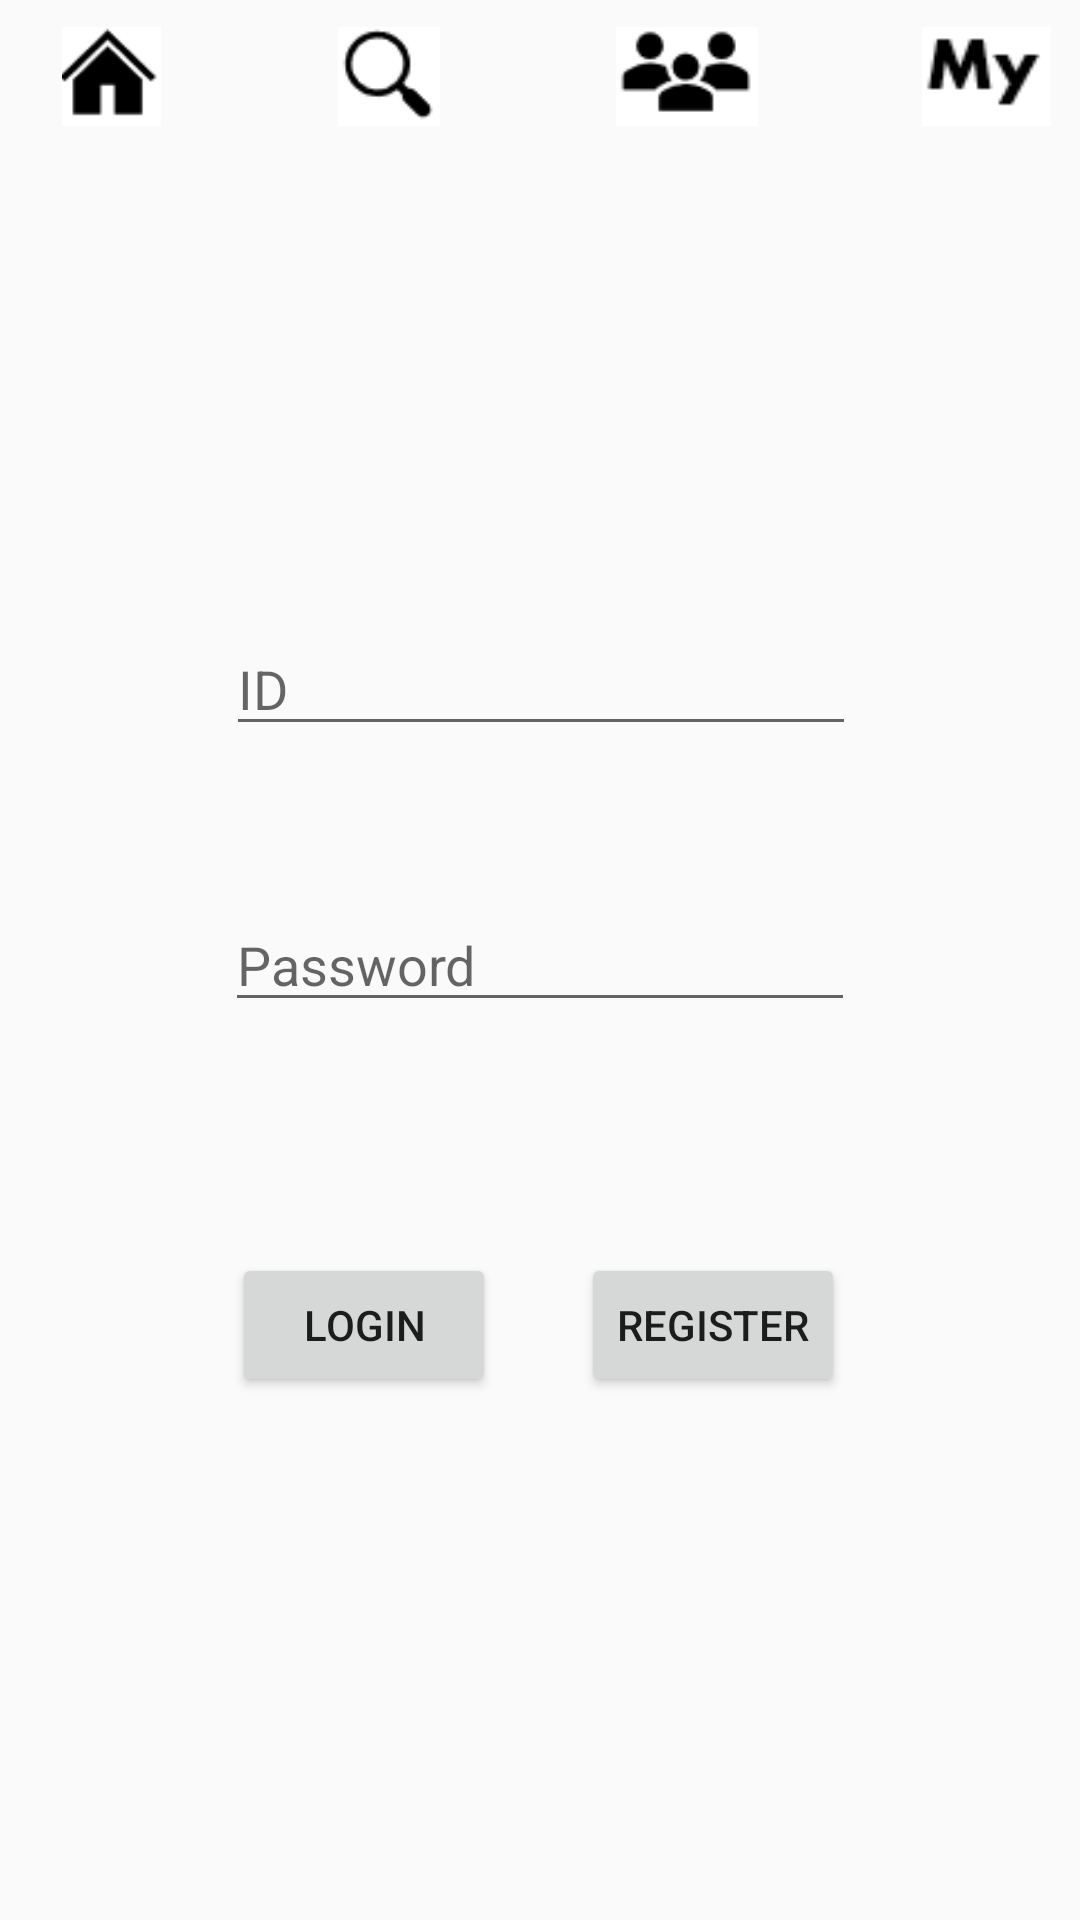

Where icons sit on this 1080px x 1920px app screen, as (x1, y1, x2, y2):
friends: (621, 31, 751, 112)
search: (343, 30, 433, 119)
